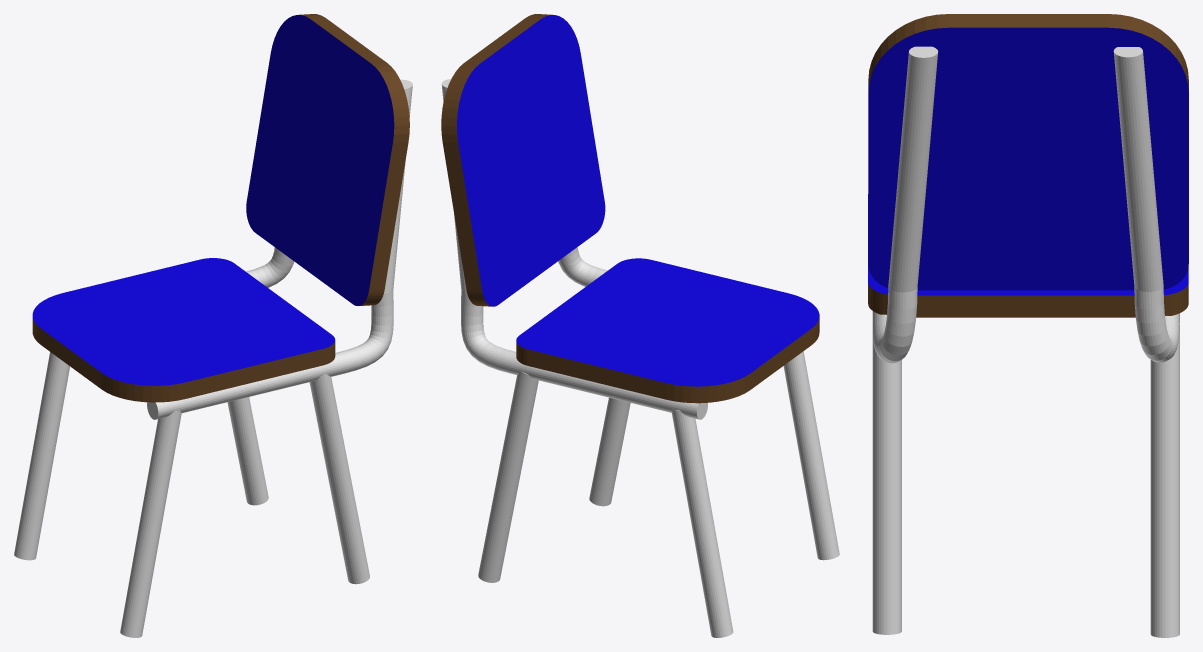
The model's file is sillaTP14-concolor 1.fbx.
The picture shows the model from 3 angles, left to right: view 1: azimuth 30°, elevation 25°; view 2: azimuth 150°, elevation 25°; view 3: azimuth 270°, elevation 25°; orthographic projection. The views are drawn at different scales.
Parts seen in each view (by area): view 1: Cube.002, Cube.001, Cylinder.001, Cylinder.002, Cylinder.005, Cylinder.003, Cylinder.004, Cylinder; view 2: Cube.002, Cube.001, Cylinder.003, Cylinder.004, Cylinder, Cylinder.002, Cylinder.005, Cylinder.001; view 3: Cube.002, Cylinder.001, Cylinder, Cylinder.004, Cylinder.005, Cube.001.
Part boxes in pixels (bbox=[...]): Cube.002: bbox=[246, 14, 409, 305]; Cube.001: bbox=[32, 258, 335, 402]; Cylinder.001: bbox=[147, 79, 412, 419]; Cylinder.002: bbox=[120, 410, 181, 637]; Cylinder.005: bbox=[309, 374, 369, 584]; Cylinder.003: bbox=[14, 352, 69, 560]; Cylinder.004: bbox=[227, 397, 268, 505]; Cylinder: bbox=[246, 247, 294, 287]; Cube.002: bbox=[441, 14, 605, 306]; Cube.001: bbox=[516, 258, 819, 403]; Cylinder.003: bbox=[671, 409, 733, 637]; Cylinder.004: bbox=[478, 371, 538, 582]; Cylinder: bbox=[441, 79, 707, 419]; Cylinder.002: bbox=[783, 351, 839, 560]; Cylinder.005: bbox=[589, 397, 630, 506]; Cylinder.001: bbox=[558, 247, 607, 286]; Cube.002: bbox=[868, 14, 1188, 290]; Cylinder.001: bbox=[872, 46, 938, 363]; Cylinder: bbox=[1113, 47, 1179, 362]; Cylinder.004: bbox=[1150, 323, 1179, 637]; Cylinder.005: bbox=[872, 335, 901, 634]; Cube.001: bbox=[868, 194, 1188, 317].
Bounding box in the file's own units: 671 × 1037 × 469.
